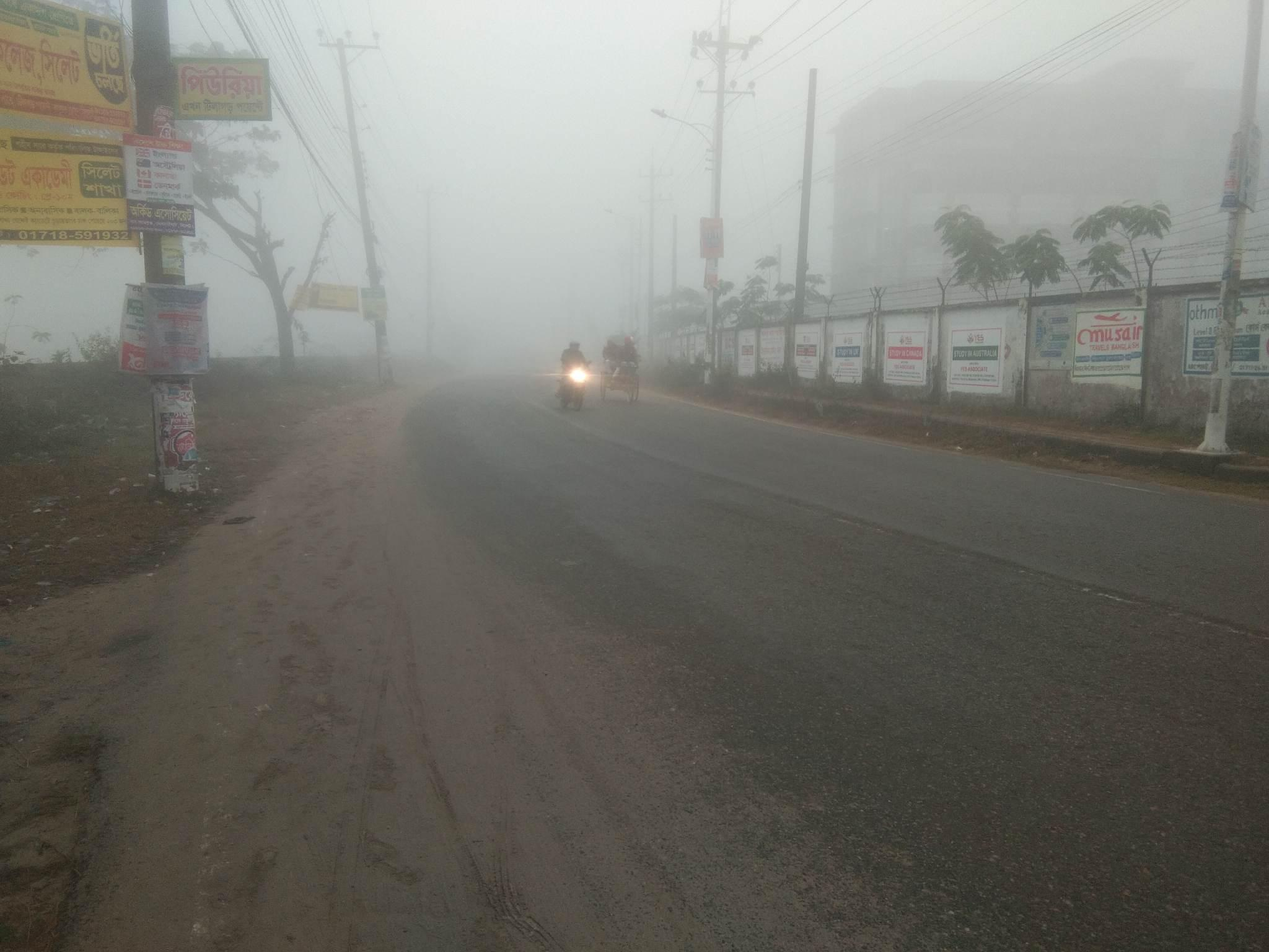Bike: (544, 327, 598, 430)
Car: (600, 322, 647, 421)
